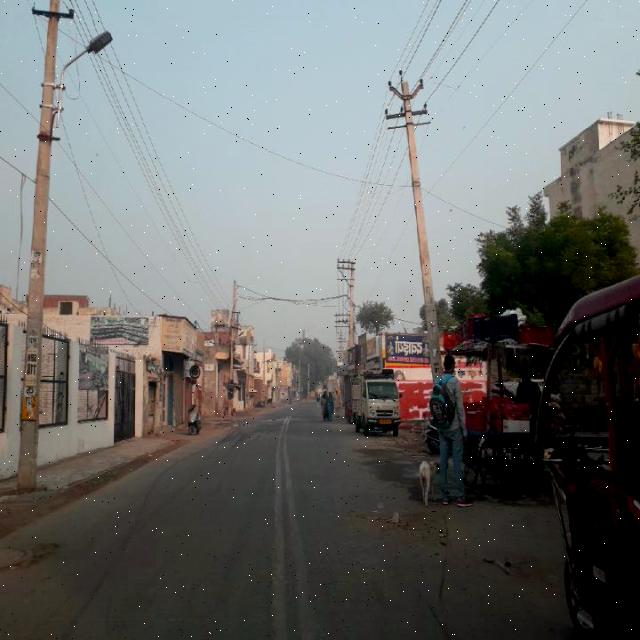D44: (265, 466, 330, 628)
